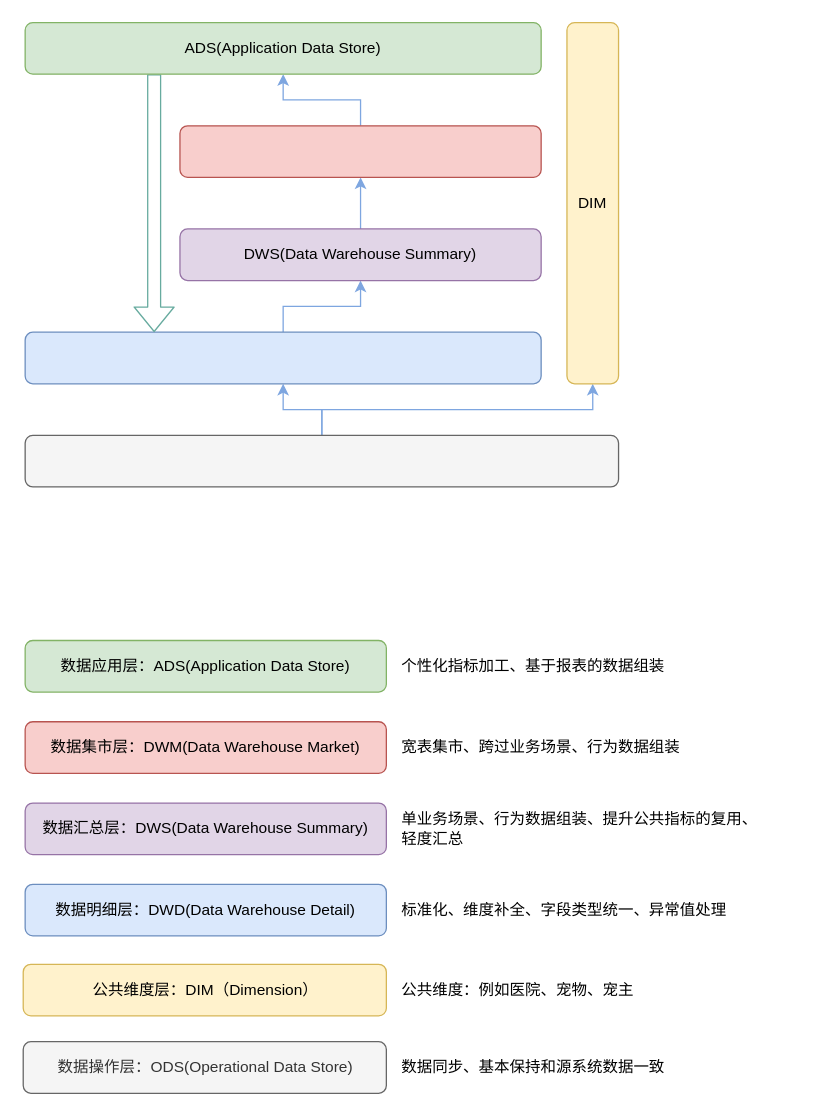
Image size: 833x1116. Some labels were removed from this diagram. Here are the shapes that lost their labels. From the top down, the centre of each, then its label:
(360,150): DWM(Data Warehouse Market)
(282,357): DWD(Data Warehouse Detail)
(321,460): ODS(Operational Data Store)
